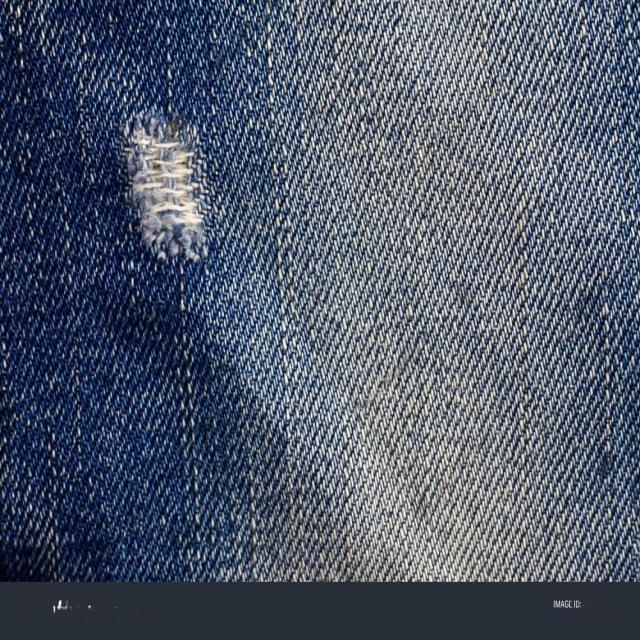Hole: (122, 110, 207, 261)
